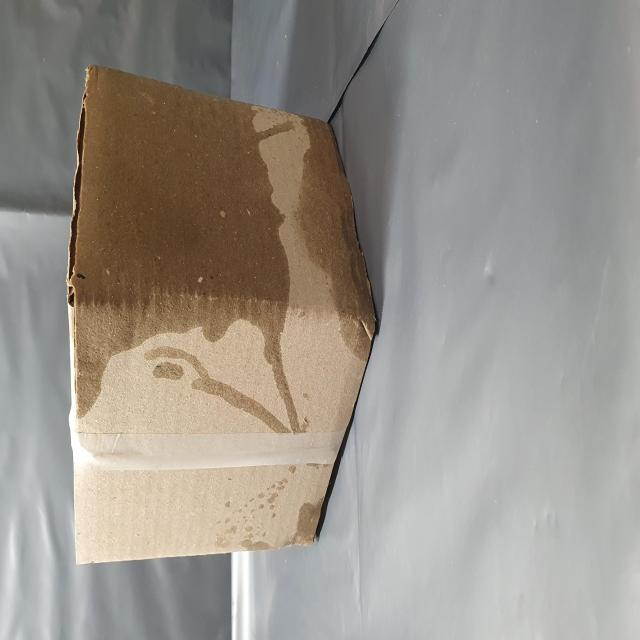wet: (122, 124, 326, 540), (155, 534, 297, 640)
